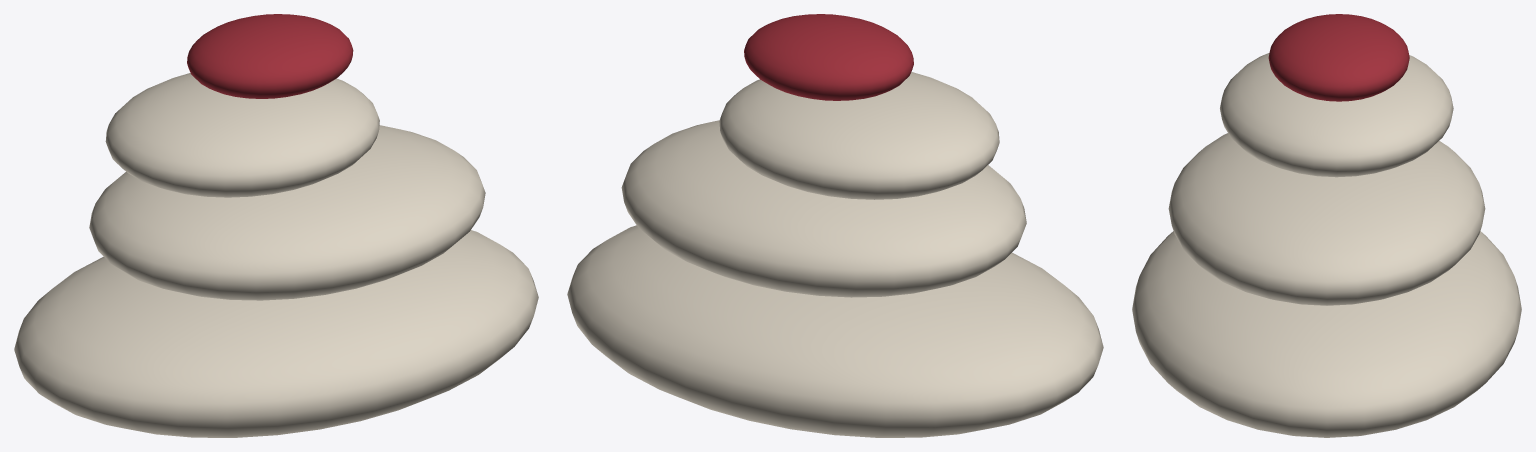
Rendered from VSV-030.glb.
3 views of the same model, side by side, from view 1: azimuth 30°, elevation 25°; view 2: azimuth 150°, elevation 25°; view 3: azimuth 270°, elevation 25° (orthographic). The views are drawn at different scales.
Parts seen in each view (by area): view 1: VSV-030_stacked-pebbles__pebble, VSV-030_stacked-pebbles__pebble.001, VSV-030_stacked-pebbles__pebble.002, VSV-030_stacked-pebbles__pebble.003; view 2: VSV-030_stacked-pebbles__pebble, VSV-030_stacked-pebbles__pebble.001, VSV-030_stacked-pebbles__pebble.002, VSV-030_stacked-pebbles__pebble.003; view 3: VSV-030_stacked-pebbles__pebble, VSV-030_stacked-pebbles__pebble.001, VSV-030_stacked-pebbles__pebble.002, VSV-030_stacked-pebbles__pebble.003.
Boxes of the visible parts, x1,y1,x2,y2 form: VSV-030_stacked-pebbles__pebble: (14,230,538,437); VSV-030_stacked-pebbles__pebble.001: (89,125,485,300); VSV-030_stacked-pebbles__pebble.002: (105,73,379,197); VSV-030_stacked-pebbles__pebble.003: (187,14,353,98); VSV-030_stacked-pebbles__pebble: (567,225,1103,437); VSV-030_stacked-pebbles__pebble.001: (621,120,1026,297); VSV-030_stacked-pebbles__pebble.002: (719,72,999,199); VSV-030_stacked-pebbles__pebble.003: (744,14,913,100); VSV-030_stacked-pebbles__pebble: (1132,231,1521,437); VSV-030_stacked-pebbles__pebble.001: (1168,133,1485,305); VSV-030_stacked-pebbles__pebble.002: (1220,53,1453,177); VSV-030_stacked-pebbles__pebble.003: (1268,14,1409,101).
Bounding box in the file's own units: 2.2 × 1.54 × 1.6.
